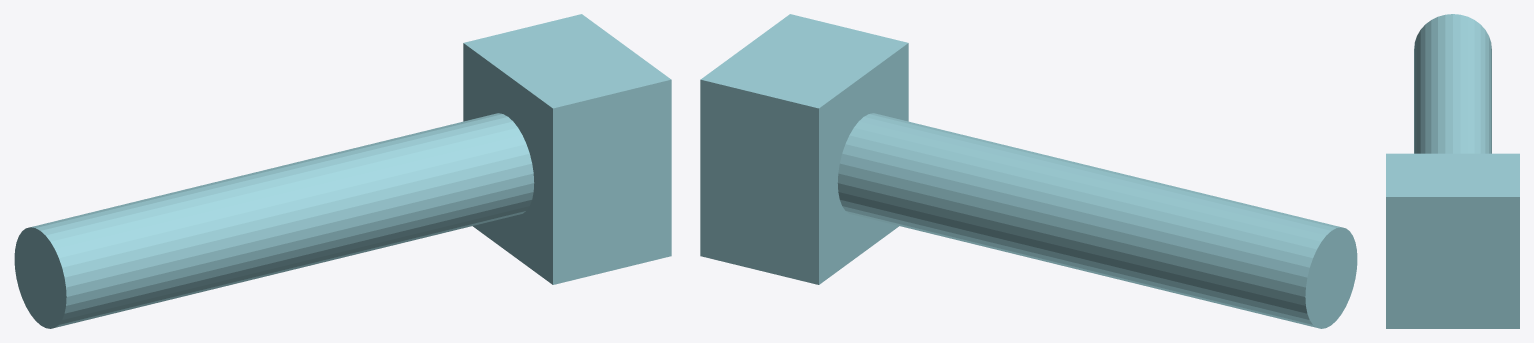
Rendered from cylinder_hammer_v1005.obj.
3 renders of one model, left to right at view 1: azimuth 30°, elevation 25°; view 2: azimuth 150°, elevation 25°; view 3: azimuth 270°, elevation 25°, orthographic. The views are drawn at different scales.
Bounding box in the file's own units: 0.2152 × 0.0619 × 0.057.
1 material, 1 textured.
